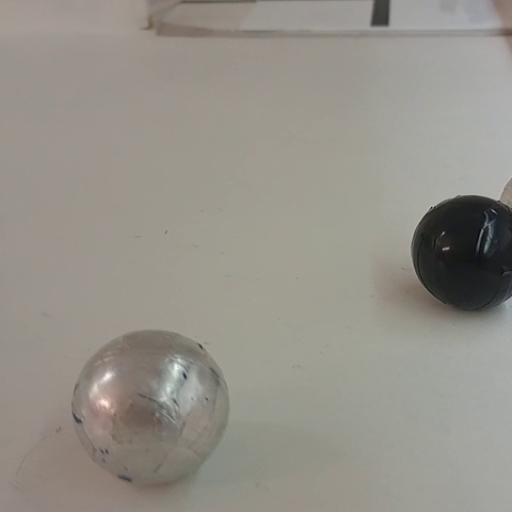alive: (70, 326, 234, 488)
dead: (409, 192, 512, 310)
